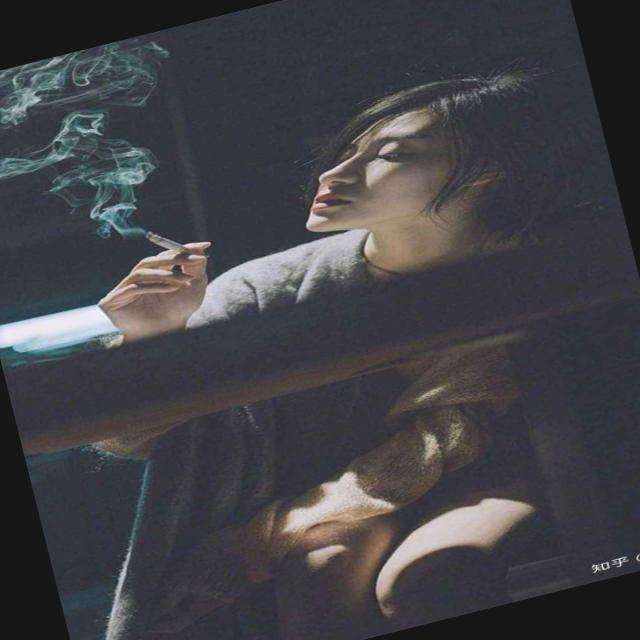smoke: (98, 188, 203, 284)
